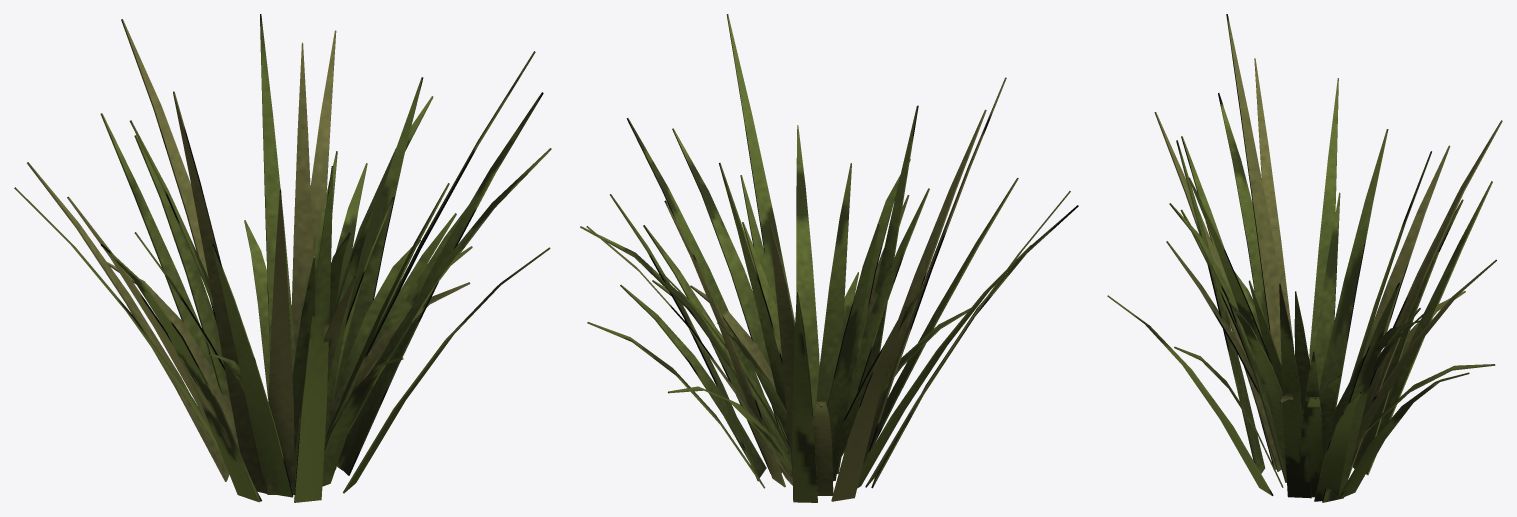
File: costa_capim_a.glb
3 renders of one model, left to right at view 1: azimuth 30°, elevation 25°; view 2: azimuth 150°, elevation 25°; view 3: azimuth 270°, elevation 25°, orthographic. The views are drawn at different scales.
Visible parts, largest first — view 1: costa_capim_a; view 2: costa_capim_a; view 3: costa_capim_a.
Boxes of the visible parts, left/top/right/bottom form: costa_capim_a: left=14, top=14, right=551, bottom=502; costa_capim_a: left=580, top=14, right=1078, bottom=502; costa_capim_a: left=1107, top=14, right=1502, bottom=502.
Size of the model in its own units: 0.9819 by 0.8751 by 0.7943.
Materials: 1 (1 with a texture image).
